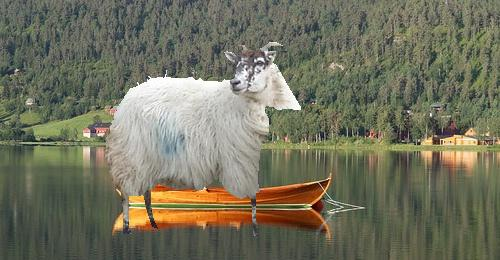tampered: (105, 43, 301, 236)
